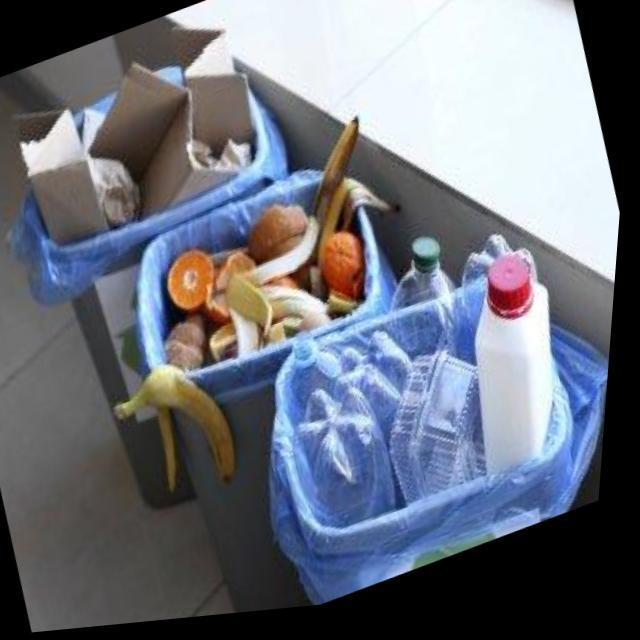Garbage: (119, 207, 363, 418), (24, 39, 257, 244), (297, 330, 493, 534), (467, 244, 559, 484), (323, 186, 389, 293), (316, 123, 358, 231), (396, 245, 459, 316), (325, 237, 366, 306)
Plastic: (481, 264, 559, 484), (397, 359, 493, 510), (304, 396, 404, 534), (341, 338, 417, 451), (298, 344, 348, 411)
contaminated_waste: (297, 337, 493, 533), (481, 251, 559, 484), (469, 244, 541, 328), (398, 245, 458, 316), (493, 264, 537, 329)
